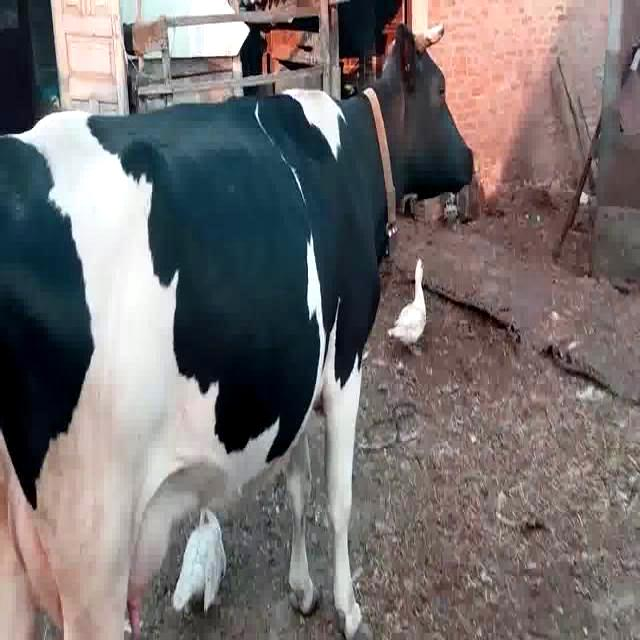COW: (0, 28, 472, 640)
